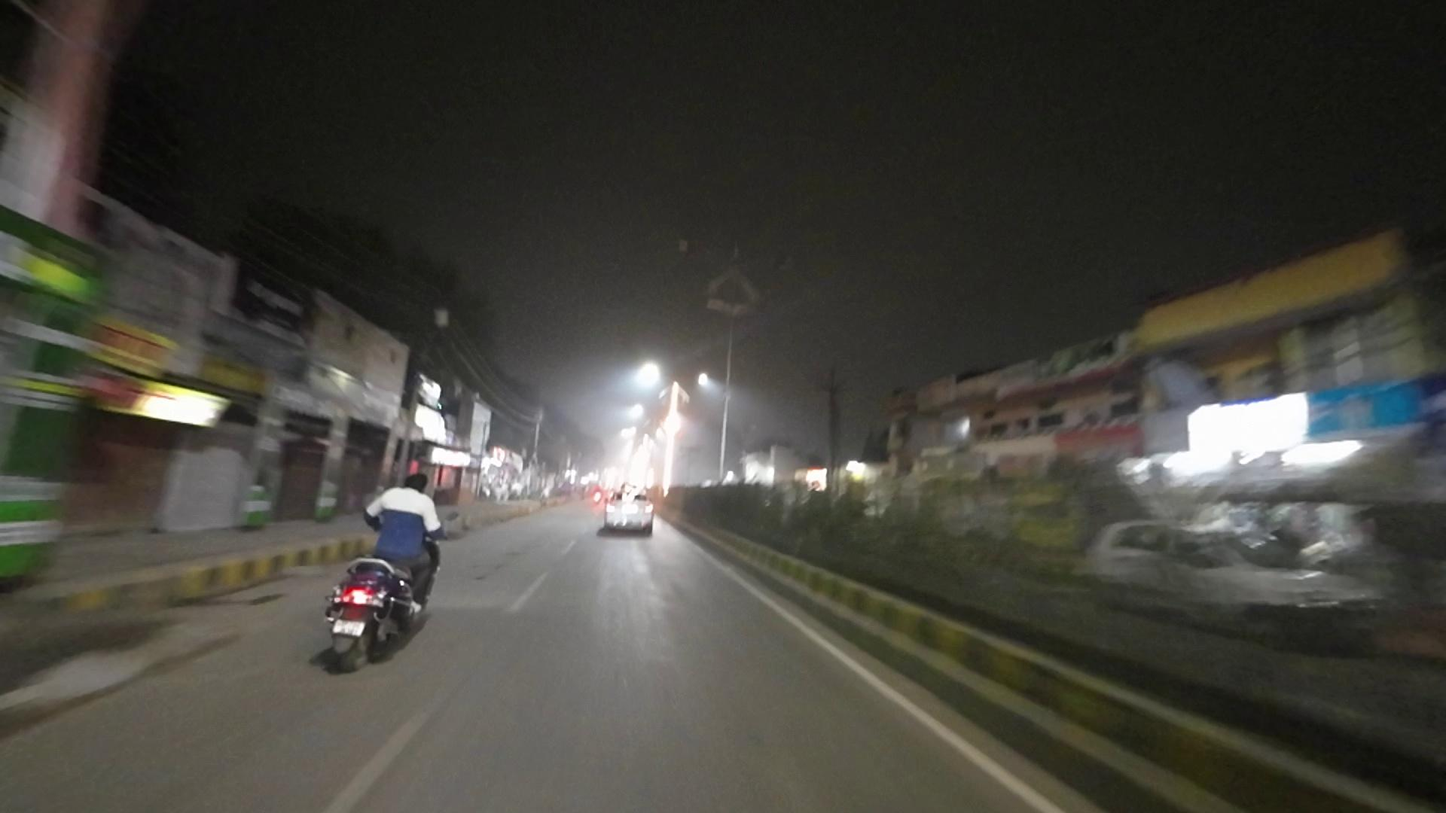streetlight: (677, 235, 728, 264), (742, 249, 799, 273)
